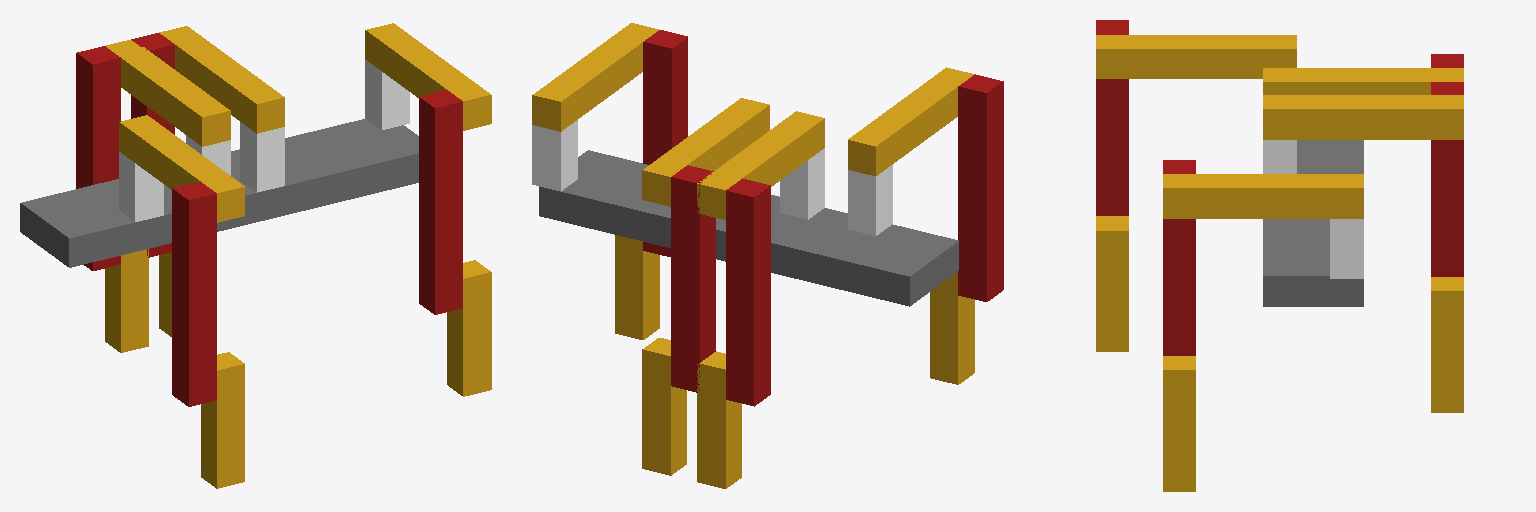
robot.urdf — v0:
<?xml version="1.0" encoding="utf-8"?>
<!-- =================================================================================== -->
<!-- |    This document was autogenerated by xacro from ../robots/v0variants/xacros/v0_4l_28.xacro | -->
<!-- |    EDITING THIS FILE BY HAND IS NOT RECOMMENDED                                 | -->
<!-- =================================================================================== -->
<robot name="v0">
  <material name="grey">
    <color rgba="0.5 0.5 0.5 1"/>
  </material>
  <material name="white">
    <color rgba="1 1 1 1"/>
  </material>
  <material name="yellow">
    <color rgba="0.91 0.7 0.14 1"/>
  </material>
  <material name="red">
    <color rgba="0.71 0.14 0.14 1"/>
  </material>
  <link name="body">
    <visual>
      <geometry>
        <box size="1.3 0.3 0.1"/>
      </geometry>
      <material name="grey"/>
      <origin rpy="0 0 0" xyz="0 0 0.7"/>
    </visual>
    <collision>
      <geometry>
        <box size="1.3 0.3 0.1"/>
      </geometry>
      <origin rpy="0 0 0" xyz="0 0 0.7"/>
    </collision>
    <inertial>
      <mass value="99.84"/>
      <inertia ixx="0.832" ixy="0.0" ixz="0.0" iyy="14.144" iyz="0.0" izz="14.8096"/>
    </inertial>
  </link>
  <link name="l1_segment_1">
    <visual>
      <geometry>
        <box size="0.1 0.1 0.2"/>
      </geometry>
      <material name="white"/>
      <origin rpy="0 0 0" xyz="0 0 0.1"/>
    </visual>
    <collision>
      <geometry>
        <box size="0.1 0.1 0.2"/>
      </geometry>
      <origin rpy="0 0 0" xyz="0 0 0.1"/>
    </collision>
    <inertial>
      <mass value="5.12"/>
      <inertia ixx="0.0213333333333" ixy="0.0" ixz="0.0" iyy="0.0213333333333" iyz="0.0" izz="0.00853333333333"/>
    </inertial>
  </link>
  <joint name="l1_base_to_joint_1" type="fixed">
    <parent link="body"/>
    <child link="l1_segment_1"/>
    <origin rpy="0 0 0" xyz="-0.1287894835959339 -0.1 0.75"/>
  </joint>
  <link name="l1_segment_2_HIP">
    <visual>
      <geometry>
        <box size="0.1 0.6 0.1"/>
      </geometry>
      <material name="yellow"/>
      <origin rpy="0 0 0" xyz="0 0.25 0"/>
    </visual>
    <collision>
      <geometry>
        <box size="0.1 0.6 0.1"/>
      </geometry>
      <origin rpy="0 0 0" xyz="0 0.25 0"/>
    </collision>
    <inertial>
      <mass value="15.36"/>
      <inertia ixx="0.4736" ixy="0.0" ixz="0.0" iyy="0.0256" iyz="0.0" izz="0.4736"/>
    </inertial>
  </link>
  <joint name="l1_joint_1_to_2" type="revolute">
    <parent link="l1_segment_1"/>
    <child link="l1_segment_2_HIP"/>
    <origin rpy="0 0 0" xyz="0 0 0.25"/>
    <axis xyz="0.0 0.0 1.0"/>
    <limit effort="2048" lower="-1.2" upper="1.2" velocity="20"/>
  </joint>
  <link name="l1_segment_3_THIGH">
    <visual>
      <geometry>
        <box size="0.1 0.1 0.7"/>
      </geometry>
      <material name="red"/>
      <origin rpy="0 0 0" xyz="0 0 -0.3"/>
    </visual>
    <collision>
      <geometry>
        <box size="0.1 0.1 0.7"/>
      </geometry>
      <origin rpy="0 0 0" xyz="0 0 -0.3"/>
    </collision>
    <inertial>
      <mass value="17.92"/>
      <inertia ixx="0.746666666667" ixy="0.0" ixz="0.0" iyy="0.746666666667" iyz="0.0" izz="0.0298666666667"/>
    </inertial>
  </link>
  <joint name="l1_joint_2_to_3" type="revolute">
    <parent link="l1_segment_2_HIP"/>
    <child link="l1_segment_3_THIGH"/>
    <origin rpy="0 0 0" xyz="-0.1 0.5 0"/>
    <axis xyz="1.0 0.0 0.0"/>
    <limit effort="2048" lower="-0.2" upper="0.75" velocity="20"/>
  </joint>
  <link name="l1_segment_4_FOOT">
    <visual>
      <geometry>
        <box size="0.1 0.1 0.4"/>
      </geometry>
      <material name="yellow"/>
      <origin rpy="0 0 0" xyz="0 0 -0.2"/>
    </visual>
    <collision>
      <geometry>
        <box size="0.1 0.1 0.4"/>
      </geometry>
      <origin rpy="0 0 0" xyz="0 0 -0.2"/>
    </collision>
    <inertial>
      <mass value="10.24"/>
      <inertia ixx="0.145066666667" ixy="0.0" ixz="0.0" iyy="0.145066666667" iyz="0.0" izz="0.0170666666667"/>
    </inertial>
  </link>
  <joint name="l1_joint_3_to_4_FOOT" type="revolute">
    <parent link="l1_segment_3_THIGH"/>
    <child link="l1_segment_4_FOOT"/>
    <origin rpy="0 0 0" xyz="0.1 0 -0.55"/>
    <axis xyz="1.0 0.0 0.0"/>
    <limit effort="2048" lower="-0.2" upper="0.5" velocity="20"/>
  </joint>
  <link name="r2_segment_1">
    <visual>
      <geometry>
        <box size="0.1 0.1 0.2"/>
      </geometry>
      <material name="white"/>
      <origin rpy="0 0 0" xyz="0 0 0.1"/>
    </visual>
    <collision>
      <geometry>
        <box size="0.1 0.1 0.2"/>
      </geometry>
      <origin rpy="0 0 0" xyz="0 0 0.1"/>
    </collision>
    <inertial>
      <mass value="5.12"/>
      <inertia ixx="0.0213333333333" ixy="0.0" ixz="0.0" iyy="0.0213333333333" iyz="0.0" izz="0.00853333333333"/>
    </inertial>
  </link>
  <joint name="r2_base_to_joint_1" type="fixed">
    <parent link="body"/>
    <child link="r2_segment_1"/>
    <origin rpy="0 0 0" xyz="0.6218369500717079 0.1 0.75"/>
  </joint>
  <link name="r2_segment_2_HIP">
    <visual>
      <geometry>
        <box size="0.1 0.6 0.1"/>
      </geometry>
      <material name="yellow"/>
      <origin rpy="0 0 0" xyz="0 -0.25 0"/>
    </visual>
    <collision>
      <geometry>
        <box size="0.1 0.6 0.1"/>
      </geometry>
      <origin rpy="0 0 0" xyz="0 -0.25 0"/>
    </collision>
    <inertial>
      <mass value="15.36"/>
      <inertia ixx="0.4736" ixy="0.0" ixz="0.0" iyy="0.0256" iyz="0.0" izz="0.4736"/>
    </inertial>
  </link>
  <joint name="r2_joint_1_to_2" type="revolute">
    <parent link="r2_segment_1"/>
    <child link="r2_segment_2_HIP"/>
    <origin rpy="0 0 0" xyz="0 0 0.25"/>
    <axis xyz="0.0 0.0 1.0"/>
    <limit effort="2048" lower="-1.2" upper="1.2" velocity="20"/>
  </joint>
  <link name="r2_segment_3_THIGH">
    <visual>
      <geometry>
        <box size="0.1 0.1 0.7"/>
      </geometry>
      <material name="red"/>
      <origin rpy="0 0 0" xyz="0 0 -0.3"/>
    </visual>
    <collision>
      <geometry>
        <box size="0.1 0.1 0.7"/>
      </geometry>
      <origin rpy="0 0 0" xyz="0 0 -0.3"/>
    </collision>
    <inertial>
      <mass value="17.92"/>
      <inertia ixx="0.746666666667" ixy="0.0" ixz="0.0" iyy="0.746666666667" iyz="0.0" izz="0.0298666666667"/>
    </inertial>
  </link>
  <joint name="r2_joint_2_to_3" type="revolute">
    <parent link="r2_segment_2_HIP"/>
    <child link="r2_segment_3_THIGH"/>
    <origin rpy="0 0 0" xyz="-0.1 -0.5 0"/>
    <axis xyz="1.0 0.0 0.0"/>
    <limit effort="2048" lower="-0.75" upper="0.2" velocity="20"/>
  </joint>
  <link name="r2_segment_4_FOOT">
    <visual>
      <geometry>
        <box size="0.1 0.1 0.4"/>
      </geometry>
      <material name="yellow"/>
      <origin rpy="0 0 0" xyz="0 0 -0.2"/>
    </visual>
    <collision>
      <geometry>
        <box size="0.1 0.1 0.4"/>
      </geometry>
      <origin rpy="0 0 0" xyz="0 0 -0.2"/>
    </collision>
    <inertial>
      <mass value="10.24"/>
      <inertia ixx="0.145066666667" ixy="0.0" ixz="0.0" iyy="0.145066666667" iyz="0.0" izz="0.0170666666667"/>
    </inertial>
  </link>
  <joint name="r2_joint_3_to_4_FOOT" type="revolute">
    <parent link="r2_segment_3_THIGH"/>
    <child link="r2_segment_4_FOOT"/>
    <origin rpy="0 0 0" xyz="0.1 0 -0.55"/>
    <axis xyz="1.0 0.0 0.0"/>
    <limit effort="2048" lower="-0.5" upper="0.2" velocity="20"/>
  </joint>
  <link name="l3_segment_1">
    <visual>
      <geometry>
        <box size="0.1 0.1 0.2"/>
      </geometry>
      <material name="white"/>
      <origin rpy="0 0 0" xyz="0 0 0.1"/>
    </visual>
    <collision>
      <geometry>
        <box size="0.1 0.1 0.2"/>
      </geometry>
      <origin rpy="0 0 0" xyz="0 0 0.1"/>
    </collision>
    <inertial>
      <mass value="5.12"/>
      <inertia ixx="0.0213333333333" ixy="0.0" ixz="0.0" iyy="0.0213333333333" iyz="0.0" izz="0.00853333333333"/>
    </inertial>
  </link>
  <joint name="l3_base_to_joint_1" type="fixed">
    <parent link="body"/>
    <child link="l3_segment_1"/>
    <origin rpy="0 0 0" xyz="0.06348783988858497 -0.1 0.75"/>
  </joint>
  <link name="l3_segment_2_HIP">
    <visual>
      <geometry>
        <box size="0.1 0.6 0.1"/>
      </geometry>
      <material name="yellow"/>
      <origin rpy="0 0 0" xyz="0 0.25 0"/>
    </visual>
    <collision>
      <geometry>
        <box size="0.1 0.6 0.1"/>
      </geometry>
      <origin rpy="0 0 0" xyz="0 0.25 0"/>
    </collision>
    <inertial>
      <mass value="15.36"/>
      <inertia ixx="0.4736" ixy="0.0" ixz="0.0" iyy="0.0256" iyz="0.0" izz="0.4736"/>
    </inertial>
  </link>
  <joint name="l3_joint_1_to_2" type="revolute">
    <parent link="l3_segment_1"/>
    <child link="l3_segment_2_HIP"/>
    <origin rpy="0 0 0" xyz="0 0 0.25"/>
    <axis xyz="0.0 0.0 1.0"/>
    <limit effort="2048" lower="-1.2" upper="1.2" velocity="20"/>
  </joint>
  <link name="l3_segment_3_THIGH">
    <visual>
      <geometry>
        <box size="0.1 0.1 0.7"/>
      </geometry>
      <material name="red"/>
      <origin rpy="0 0 0" xyz="0 0 -0.3"/>
    </visual>
    <collision>
      <geometry>
        <box size="0.1 0.1 0.7"/>
      </geometry>
      <origin rpy="0 0 0" xyz="0 0 -0.3"/>
    </collision>
    <inertial>
      <mass value="17.92"/>
      <inertia ixx="0.746666666667" ixy="0.0" ixz="0.0" iyy="0.746666666667" iyz="0.0" izz="0.0298666666667"/>
    </inertial>
  </link>
  <joint name="l3_joint_2_to_3" type="revolute">
    <parent link="l3_segment_2_HIP"/>
    <child link="l3_segment_3_THIGH"/>
    <origin rpy="0 0 0" xyz="-0.1 0.5 0"/>
    <axis xyz="1.0 0.0 0.0"/>
    <limit effort="2048" lower="-0.2" upper="0.75" velocity="20"/>
  </joint>
  <link name="l3_segment_4_FOOT">
    <visual>
      <geometry>
        <box size="0.1 0.1 0.4"/>
      </geometry>
      <material name="yellow"/>
      <origin rpy="0 0 0" xyz="0 0 -0.2"/>
    </visual>
    <collision>
      <geometry>
        <box size="0.1 0.1 0.4"/>
      </geometry>
      <origin rpy="0 0 0" xyz="0 0 -0.2"/>
    </collision>
    <inertial>
      <mass value="10.24"/>
      <inertia ixx="0.145066666667" ixy="0.0" ixz="0.0" iyy="0.145066666667" iyz="0.0" izz="0.0170666666667"/>
    </inertial>
  </link>
  <joint name="l3_joint_3_to_4_FOOT" type="revolute">
    <parent link="l3_segment_3_THIGH"/>
    <child link="l3_segment_4_FOOT"/>
    <origin rpy="0 0 0" xyz="0.1 0 -0.55"/>
    <axis xyz="1.0 0.0 0.0"/>
    <limit effort="2048" lower="-0.2" upper="0.5" velocity="20"/>
  </joint>
  <link name="r4_segment_1">
    <visual>
      <geometry>
        <box size="0.1 0.1 0.2"/>
      </geometry>
      <material name="white"/>
      <origin rpy="0 0 0" xyz="0 0 0.1"/>
    </visual>
    <collision>
      <geometry>
        <box size="0.1 0.1 0.2"/>
      </geometry>
      <origin rpy="0 0 0" xyz="0 0 0.1"/>
    </collision>
    <inertial>
      <mass value="5.12"/>
      <inertia ixx="0.0213333333333" ixy="0.0" ixz="0.0" iyy="0.0213333333333" iyz="0.0" izz="0.00853333333333"/>
    </inertial>
  </link>
  <joint name="r4_base_to_joint_1" type="fixed">
    <parent link="body"/>
    <child link="r4_segment_1"/>
    <origin rpy="0 0 0" xyz="-0.36600112665180135 -0.1 0.75"/>
  </joint>
  <link name="r4_segment_2_HIP">
    <visual>
      <geometry>
        <box size="0.1 0.6 0.1"/>
      </geometry>
      <material name="yellow"/>
      <origin rpy="0 0 0" xyz="0 -0.25 0"/>
    </visual>
    <collision>
      <geometry>
        <box size="0.1 0.6 0.1"/>
      </geometry>
      <origin rpy="0 0 0" xyz="0 -0.25 0"/>
    </collision>
    <inertial>
      <mass value="15.36"/>
      <inertia ixx="0.4736" ixy="0.0" ixz="0.0" iyy="0.0256" iyz="0.0" izz="0.4736"/>
    </inertial>
  </link>
  <joint name="r4_joint_1_to_2" type="revolute">
    <parent link="r4_segment_1"/>
    <child link="r4_segment_2_HIP"/>
    <origin rpy="0 0 0" xyz="0 0 0.25"/>
    <axis xyz="0.0 0.0 1.0"/>
    <limit effort="2048" lower="-1.2" upper="1.2" velocity="20"/>
  </joint>
  <link name="r4_segment_3_THIGH">
    <visual>
      <geometry>
        <box size="0.1 0.1 0.7"/>
      </geometry>
      <material name="red"/>
      <origin rpy="0 0 0" xyz="0 0 -0.3"/>
    </visual>
    <collision>
      <geometry>
        <box size="0.1 0.1 0.7"/>
      </geometry>
      <origin rpy="0 0 0" xyz="0 0 -0.3"/>
    </collision>
    <inertial>
      <mass value="17.92"/>
      <inertia ixx="0.746666666667" ixy="0.0" ixz="0.0" iyy="0.746666666667" iyz="0.0" izz="0.0298666666667"/>
    </inertial>
  </link>
  <joint name="r4_joint_2_to_3" type="revolute">
    <parent link="r4_segment_2_HIP"/>
    <child link="r4_segment_3_THIGH"/>
    <origin rpy="0 0 0" xyz="-0.1 -0.5 0"/>
    <axis xyz="1.0 0.0 0.0"/>
    <limit effort="2048" lower="-0.75" upper="0.2" velocity="20"/>
  </joint>
  <link name="r4_segment_4_FOOT">
    <visual>
      <geometry>
        <box size="0.1 0.1 0.4"/>
      </geometry>
      <material name="yellow"/>
      <origin rpy="0 0 0" xyz="0 0 -0.2"/>
    </visual>
    <collision>
      <geometry>
        <box size="0.1 0.1 0.4"/>
      </geometry>
      <origin rpy="0 0 0" xyz="0 0 -0.2"/>
    </collision>
    <inertial>
      <mass value="10.24"/>
      <inertia ixx="0.145066666667" ixy="0.0" ixz="0.0" iyy="0.145066666667" iyz="0.0" izz="0.0170666666667"/>
    </inertial>
  </link>
  <joint name="r4_joint_3_to_4_FOOT" type="revolute">
    <parent link="r4_segment_3_THIGH"/>
    <child link="r4_segment_4_FOOT"/>
    <origin rpy="0 0 0" xyz="0.1 0 -0.55"/>
    <axis xyz="1.0 0.0 0.0"/>
    <limit effort="2048" lower="-0.5" upper="0.2" velocity="20"/>
  </joint>
</robot>

--- What the picture shows (computed from the rendered views, not written in the file) ---
Views: 3 orthographic renders of the robot side by side, from view 1: azimuth 30°, elevation 25°; view 2: azimuth 150°, elevation 25°; view 3: azimuth 270°, elevation 25°.
Model v0 with 17 links and 16 joints (12 revolute, 4 fixed), rooted at body, posed all joints at 0.
Visible links, largest first — view 1: body, r4_segment_3_THIGH, r2_segment_3_THIGH, l1_segment_3_THIGH, l1_segment_2_HIP, l3_segment_2_HIP, r2_segment_2_HIP, r4_segment_2_HIP, r2_segment_4_FOOT, r4_segment_4_FOOT, l1_segment_4_FOOT, l3_segment_1 (+5 smaller); view 2: body, r4_segment_3_THIGH, l1_segment_3_THIGH, l3_segment_3_THIGH, r2_segment_2_HIP, r4_segment_2_HIP, r2_segment_3_THIGH, l1_segment_2_HIP, l3_segment_2_HIP, l3_segment_4_FOOT, l1_segment_4_FOOT, r4_segment_4_FOOT (+4 smaller); view 3: body, r2_segment_2_HIP, l3_segment_2_HIP, r4_segment_2_HIP, r4_segment_3_THIGH, l1_segment_2_HIP, r2_segment_3_THIGH, l3_segment_3_THIGH, r2_segment_4_FOOT, l3_segment_4_FOOT, r4_segment_4_FOOT, r2_segment_1 (+1 smaller).
Boxes of the visible links, bbox=[...] form: body: bbox=[20, 119, 418, 267]; r4_segment_3_THIGH: bbox=[172, 182, 216, 406]; r2_segment_3_THIGH: bbox=[419, 90, 462, 314]; l1_segment_3_THIGH: bbox=[76, 46, 120, 270]; l1_segment_2_HIP: bbox=[106, 40, 230, 146]; l3_segment_2_HIP: bbox=[159, 26, 284, 133]; r2_segment_2_HIP: bbox=[365, 23, 491, 130]; r4_segment_2_HIP: bbox=[119, 115, 244, 222]; r2_segment_4_FOOT: bbox=[447, 260, 491, 396]; r4_segment_4_FOOT: bbox=[201, 352, 244, 488]; l1_segment_4_FOOT: bbox=[105, 249, 148, 352]; l3_segment_1: bbox=[240, 122, 284, 192]; body: bbox=[539, 150, 958, 306]; r4_segment_3_THIGH: bbox=[958, 74, 1003, 301]; l1_segment_3_THIGH: bbox=[726, 178, 770, 406]; l3_segment_3_THIGH: bbox=[671, 165, 715, 392]; r2_segment_2_HIP: bbox=[532, 23, 658, 131]; r4_segment_2_HIP: bbox=[848, 67, 974, 175]; r2_segment_3_THIGH: bbox=[643, 30, 687, 256]; l1_segment_2_HIP: bbox=[697, 111, 824, 219]; l3_segment_2_HIP: bbox=[642, 98, 769, 206]; l3_segment_4_FOOT: bbox=[642, 338, 686, 475]; l1_segment_4_FOOT: bbox=[697, 351, 741, 488]; r4_segment_4_FOOT: bbox=[930, 272, 974, 384]; body: bbox=[1263, 140, 1363, 306]; r2_segment_2_HIP: bbox=[1163, 174, 1363, 218]; l3_segment_2_HIP: bbox=[1263, 95, 1463, 139]; r4_segment_2_HIP: bbox=[1096, 35, 1296, 78]; r4_segment_3_THIGH: bbox=[1096, 20, 1128, 215]; l1_segment_2_HIP: bbox=[1263, 68, 1463, 94]; r2_segment_3_THIGH: bbox=[1163, 160, 1195, 355]; l3_segment_3_THIGH: bbox=[1431, 82, 1463, 276]; r2_segment_4_FOOT: bbox=[1163, 356, 1195, 491]; l3_segment_4_FOOT: bbox=[1431, 277, 1463, 412]; r4_segment_4_FOOT: bbox=[1096, 216, 1128, 351]; r2_segment_1: bbox=[1330, 219, 1363, 278].
Size in the robot's own frame: 1.32 by 1.1 by 1 metres.
Geometry: primitives only (box / cylinder / sphere), no mesh files.